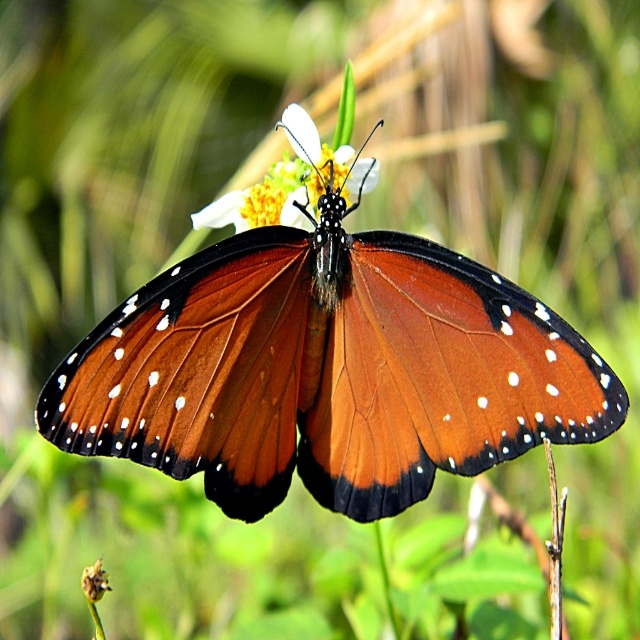Moths and butterflies: (31, 113, 630, 523)
